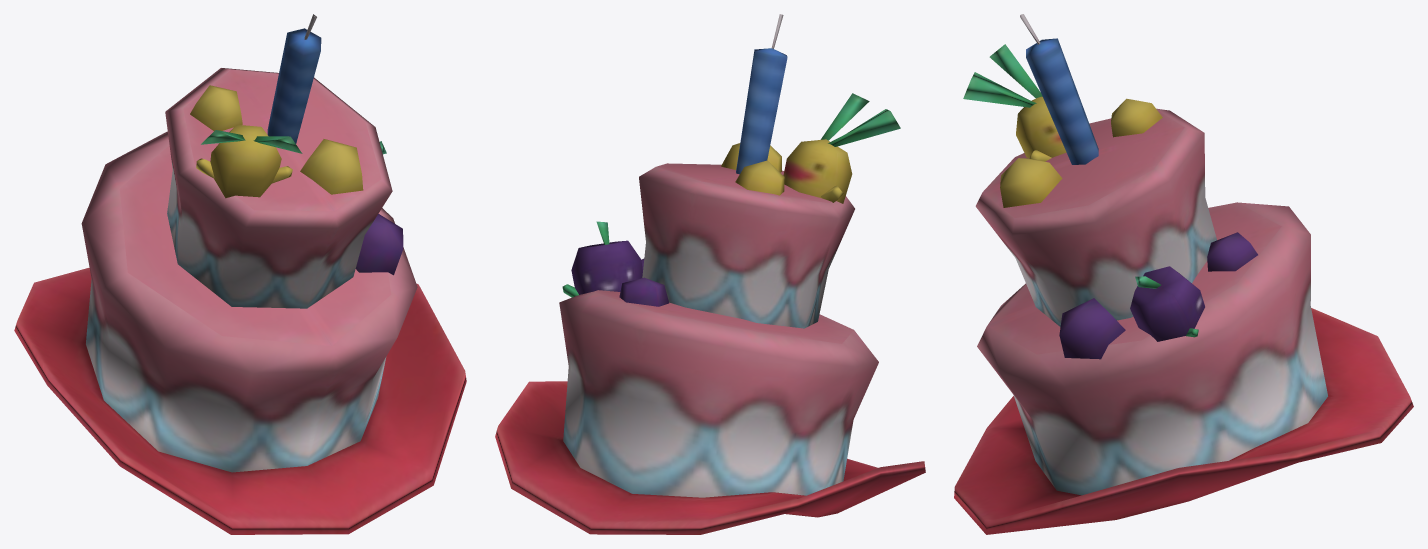
File: cakeHat.glb
3 renders of one model, left to right at view 1: azimuth 30°, elevation 25°; view 2: azimuth 150°, elevation 25°; view 3: azimuth 270°, elevation 25°, orthographic. The views are drawn at different scales.
Visible parts, largest first — view 1: cakeHat; view 2: cakeHat; view 3: cakeHat.
Boxes of the visible parts, bbox=[...] form: cakeHat: bbox=[14, 14, 466, 534]; cakeHat: bbox=[495, 14, 925, 534]; cakeHat: bbox=[954, 14, 1413, 534].
Size of the model in its own units: 0.3999 by 0.5065 by 0.4361.
1 material, 1 textured.
